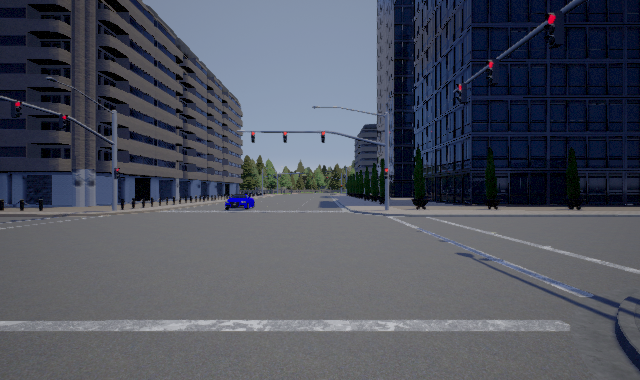traffic_light: (544, 11, 564, 49), (486, 59, 499, 86), (456, 83, 467, 104), (11, 101, 22, 118), (59, 114, 68, 129), (114, 168, 120, 179), (321, 131, 325, 143), (283, 131, 287, 143), (251, 131, 255, 143), (384, 168, 388, 179)
vehicle: (225, 194, 255, 210)
